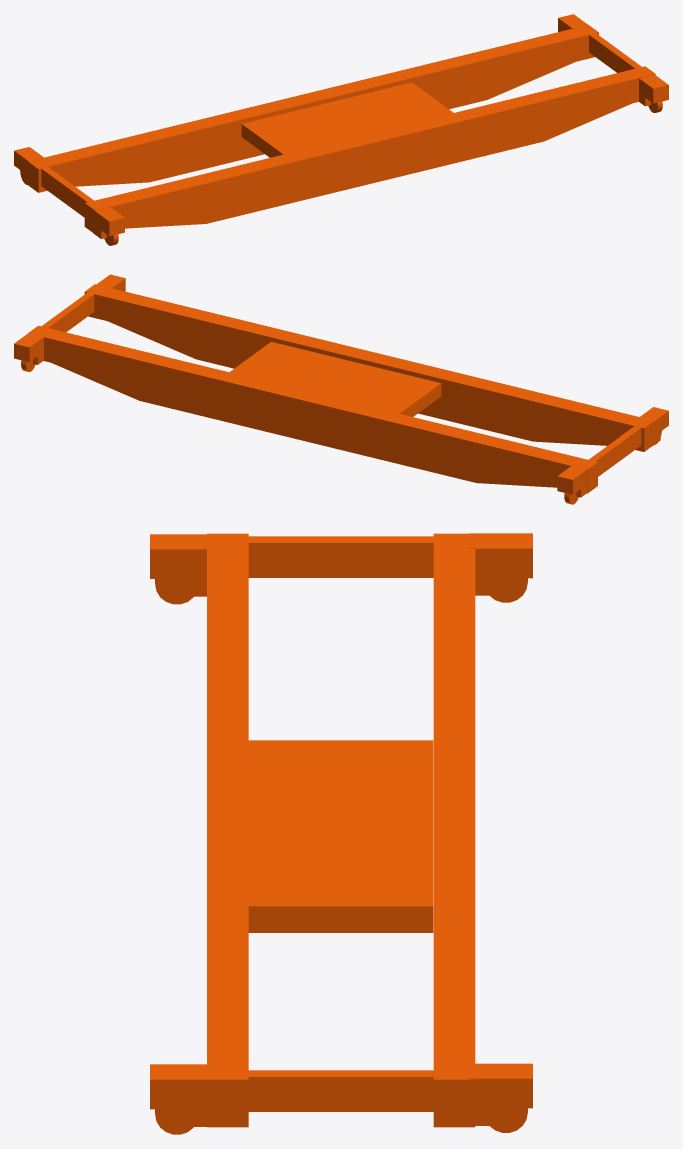
Rendered from STSTrolleyLand1.FBX.
3 renders of one model, top to bottom at view 1: azimuth 30°, elevation 25°; view 2: azimuth 150°, elevation 25°; view 3: azimuth 270°, elevation 25°, orthographic. The views are drawn at different scales.
Visible parts, largest first — view 1: STSTrolleyLand; view 2: STSTrolleyLand; view 3: STSTrolleyLand.
Part boxes in pixels (x1,y1,x2,y2): STSTrolleyLand: (14,14,668,245); STSTrolleyLand: (14,274,668,504); STSTrolleyLand: (150,533,532,1134).
Size of the model in its own units: 18005 by 1247 by 5330.
